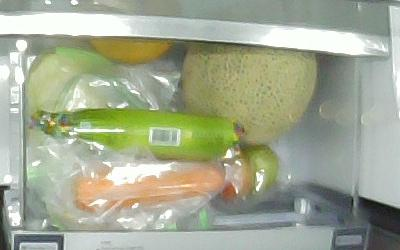cabbage_vinyl: (26, 51, 107, 139)
carrot_vinyl: (73, 163, 224, 212)
melon: (180, 42, 317, 144)
pear_vinyl: (89, 39, 173, 63)
tomato_vinyl: (242, 144, 280, 197), (221, 153, 255, 200)
zucchini_vinyl: (30, 108, 246, 162)
